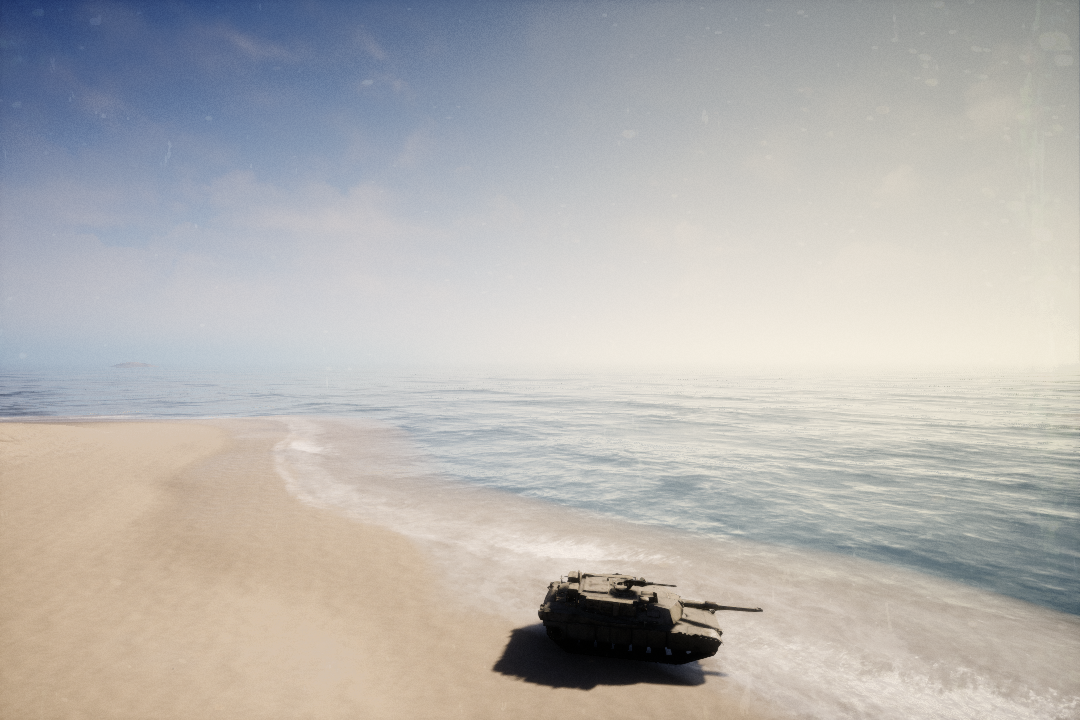tank: (527, 565, 771, 677)
